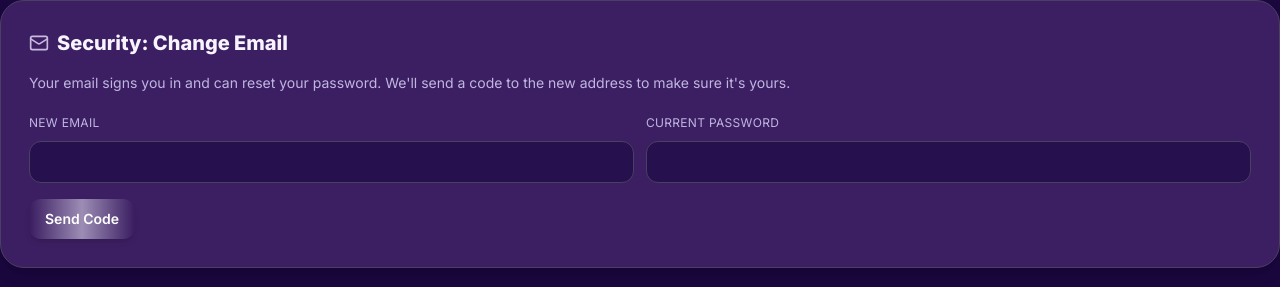
Test case: changing the email › sends a code to the new address, then commits it
The image size is (1280, 287).
Type "new@example.com" into the field labelled "New Email" at (332, 162), box top-left (29, 141), bottom-right (634, 183)
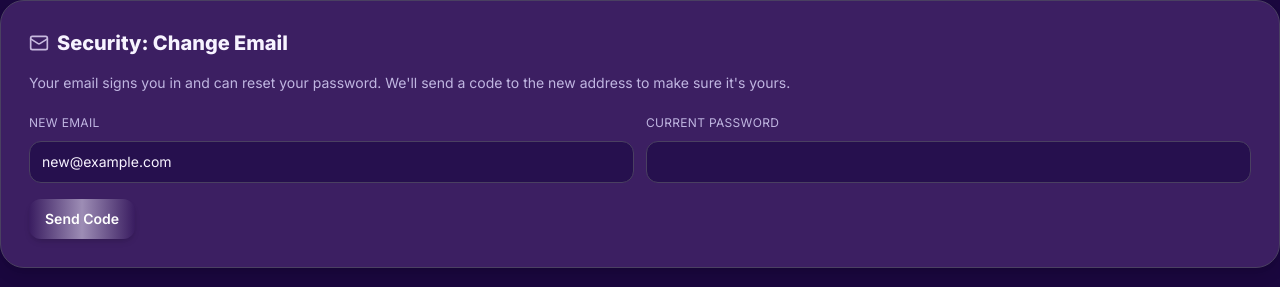
Type "Secret123" into the password field labelled "Current Password" at (948, 162), box top-left (646, 141), bottom-right (1251, 183)
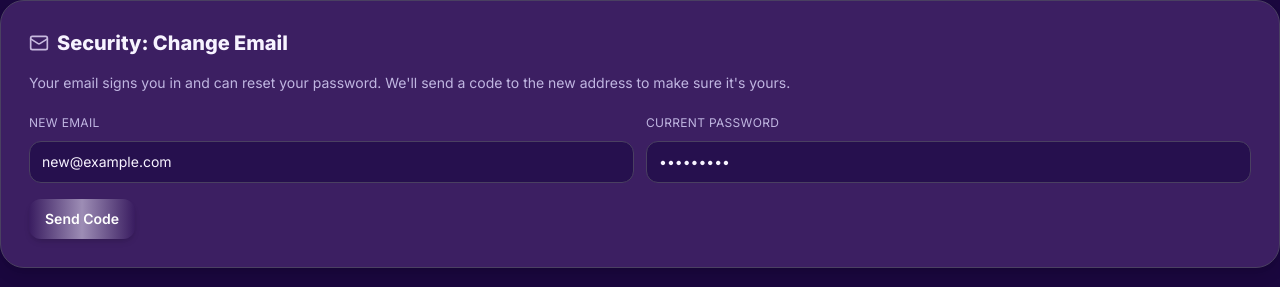
Click the button "Send Code" at (82, 219), box top-left (29, 199), bottom-right (135, 239)
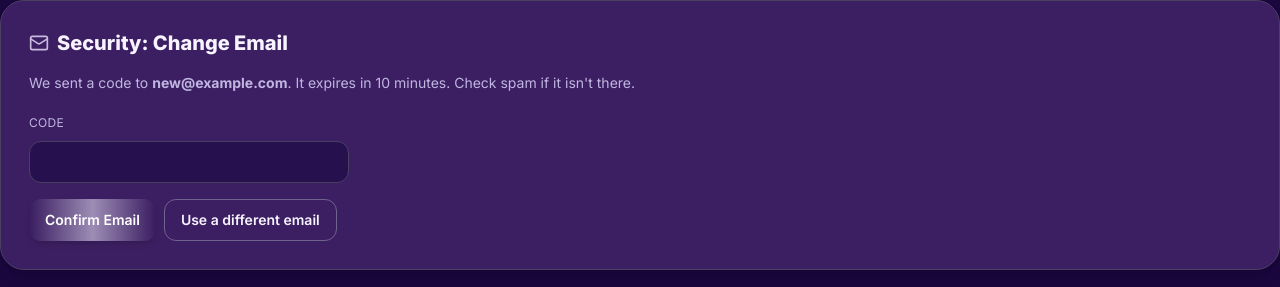
Expected: the text "We sent a code to" is shown, top-left (29, 74), bottom-right (152, 91)
Type "482913" into the field labelled "Code" at (189, 162), box top-left (29, 141), bottom-right (349, 183)
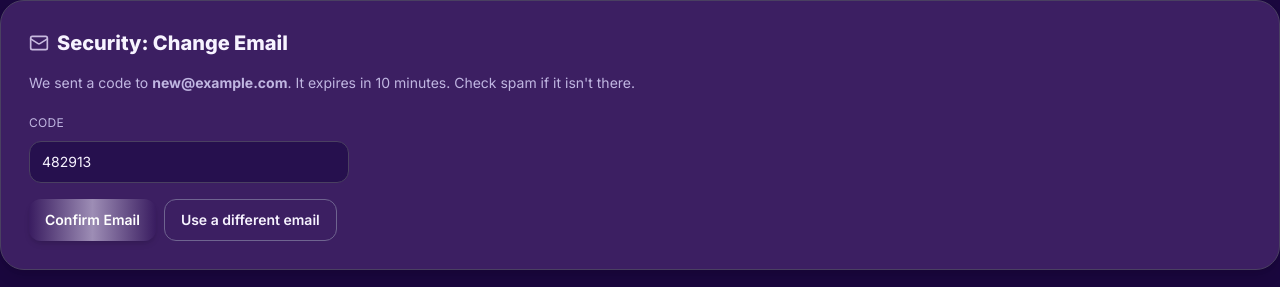
Click the button "Confirm Email" at (92, 220), box top-left (29, 199), bottom-right (156, 241)
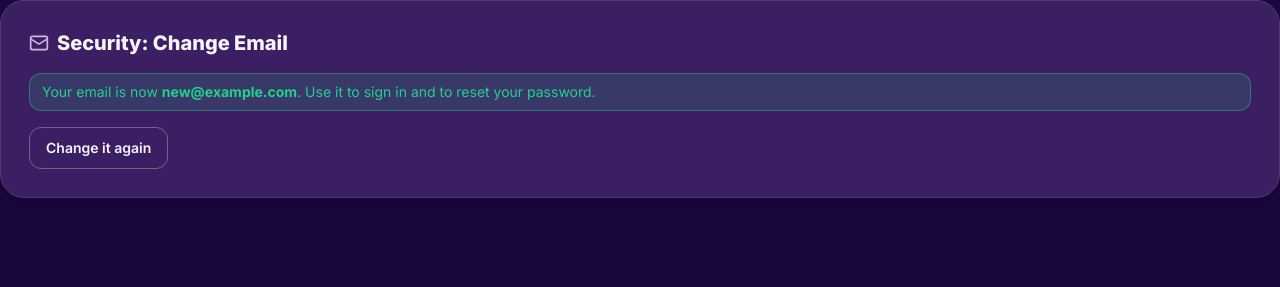
Expected: the text "Your email is now" is shown, top-left (42, 83), bottom-right (162, 100)
Click the button "Change it again" at (99, 148), box top-left (29, 127), bottom-right (168, 169)
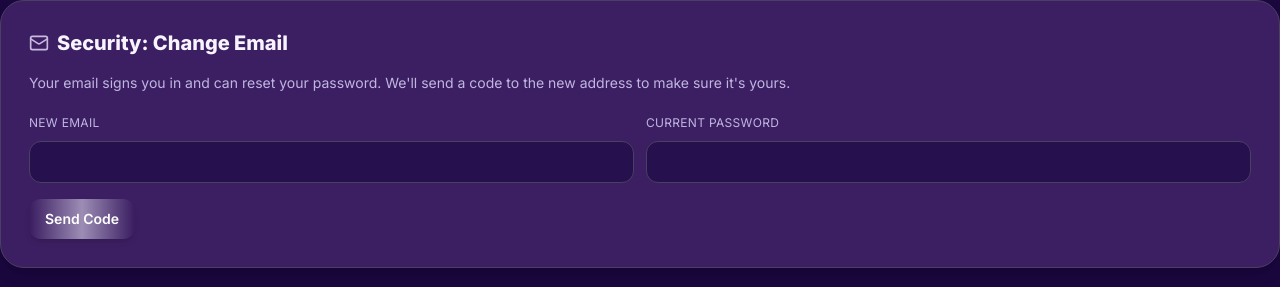
Expected: the button "Send Code" is shown, top-left (29, 199), bottom-right (135, 239)
